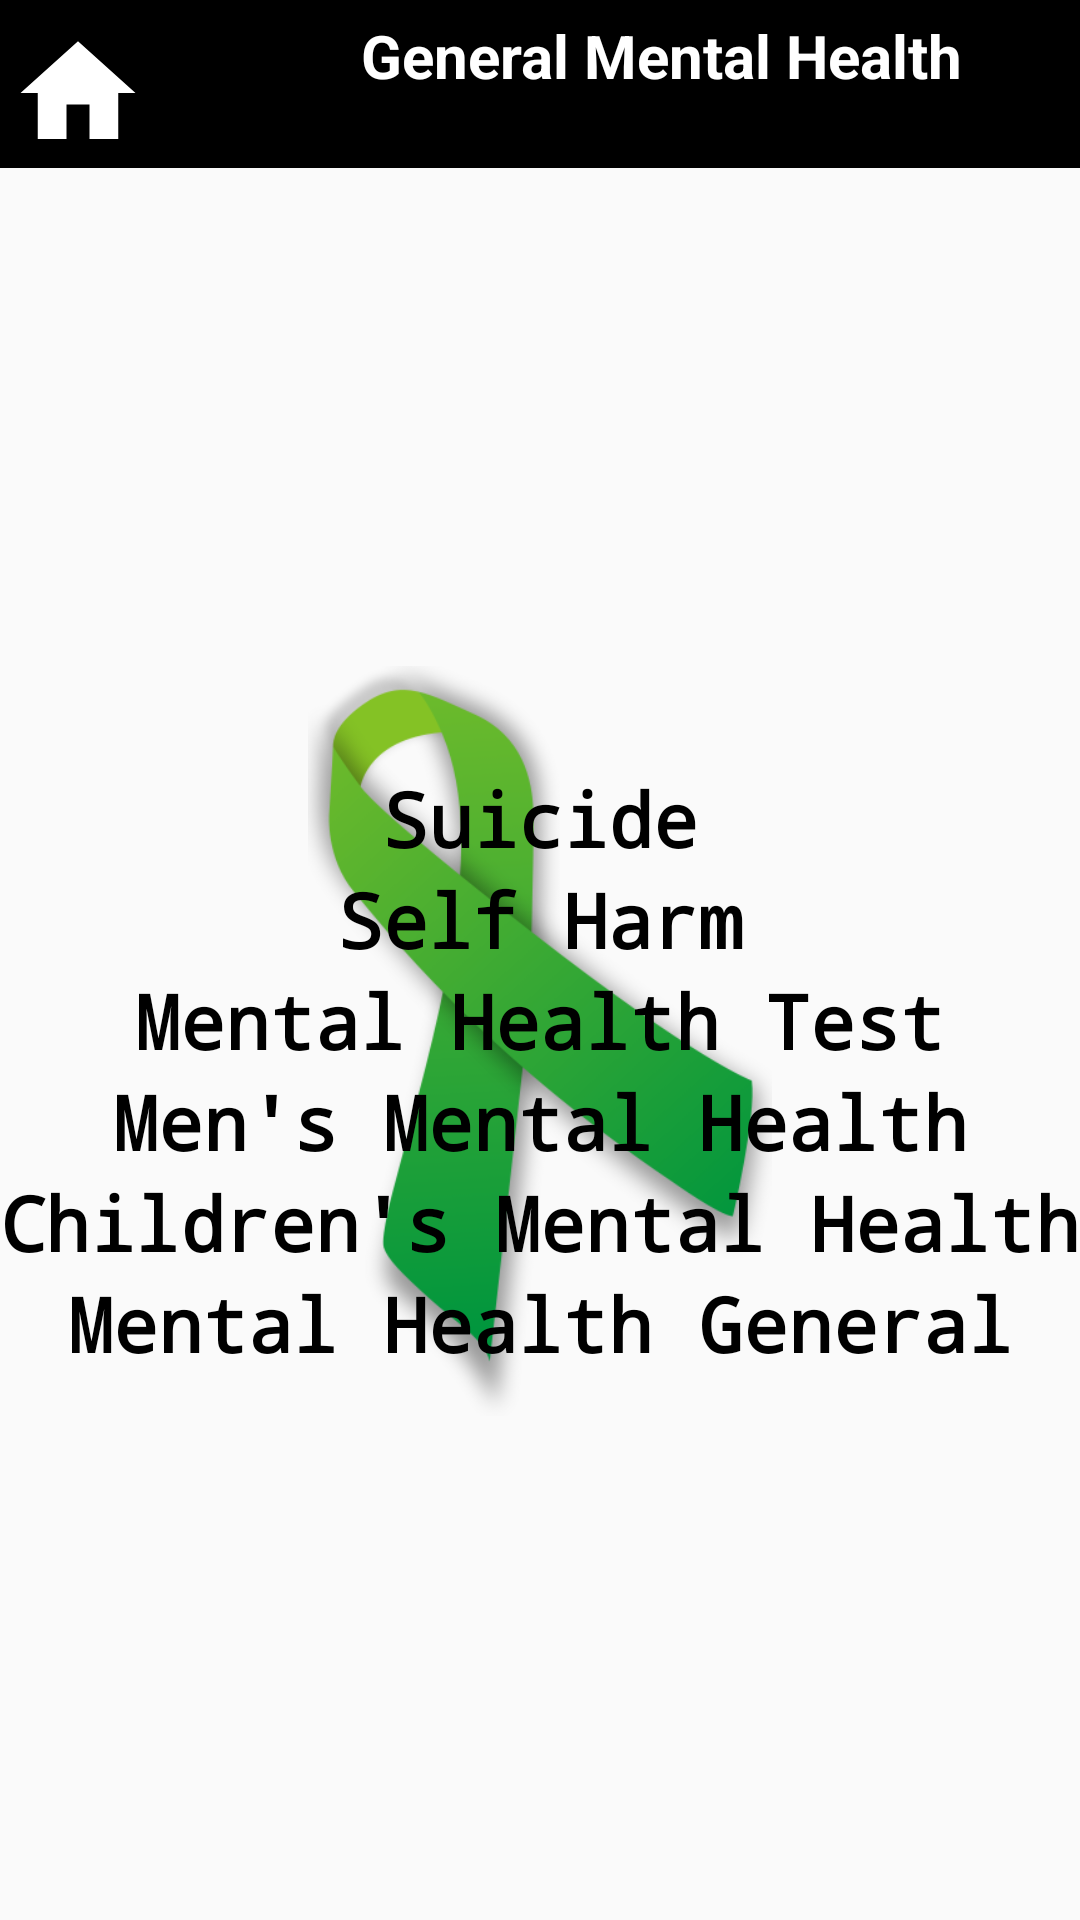

Screen size 1080 x 1920. Icon name, then its center in pixels as [x,y]:
home: [78,90]
